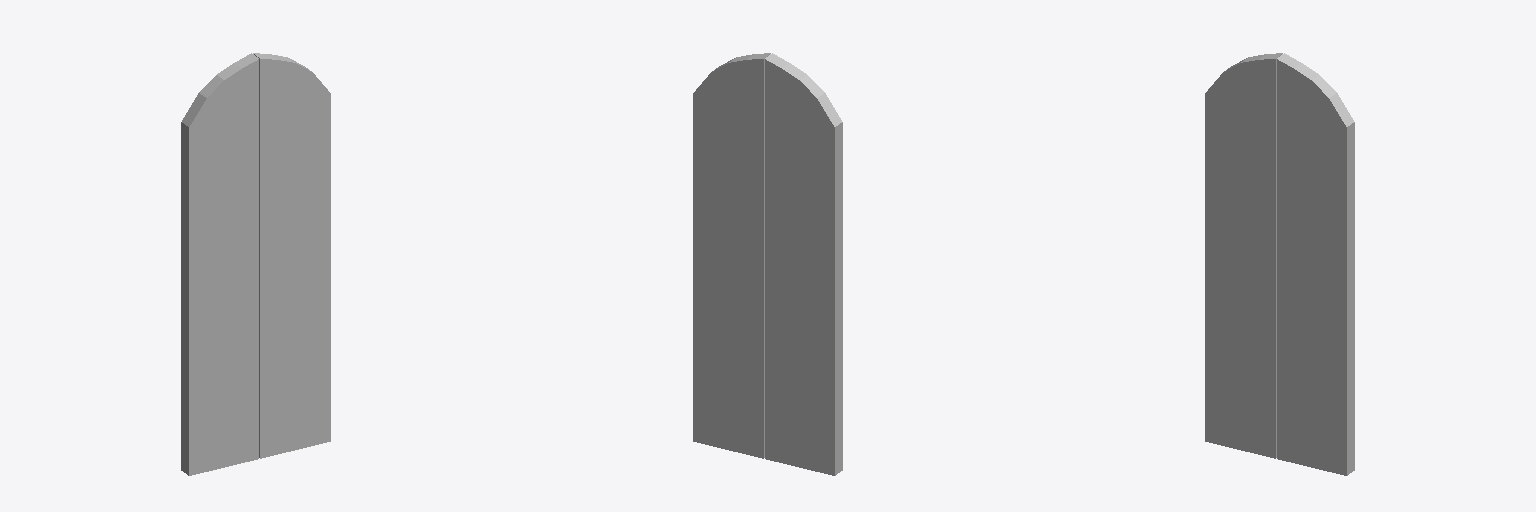
Rendered from door2.obj.
3 views of the same model, side by side, from view 1: azimuth 30°, elevation 25°; view 2: azimuth 150°, elevation 25°; view 3: azimuth 330°, elevation 25° (orthographic).
Parts seen in each view (by area): view 1: Cube; view 2: Cube; view 3: Cube.
Boxes of the visible parts, x1,y1,x2,y2 form: Cube: [181, 53, 330, 475]; Cube: [693, 53, 842, 475]; Cube: [1205, 53, 1354, 475].
Size of the model in its own units: 5.93 by 16.05 by 0.5692.